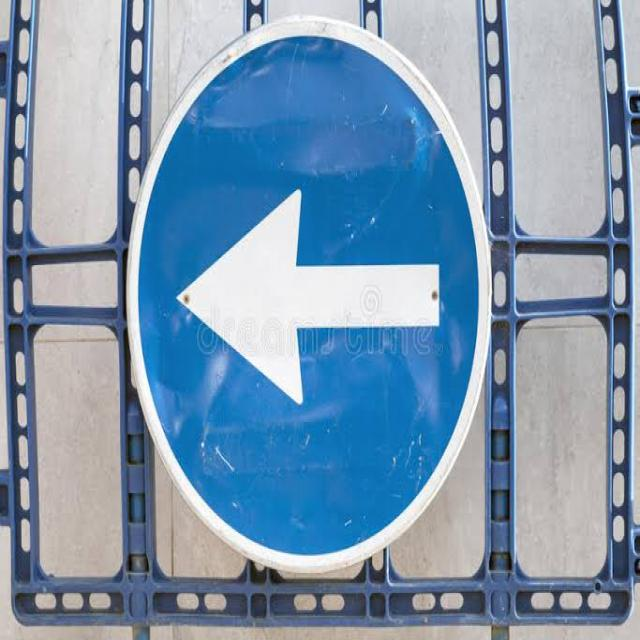Turn Left: (124, 10, 495, 589)
